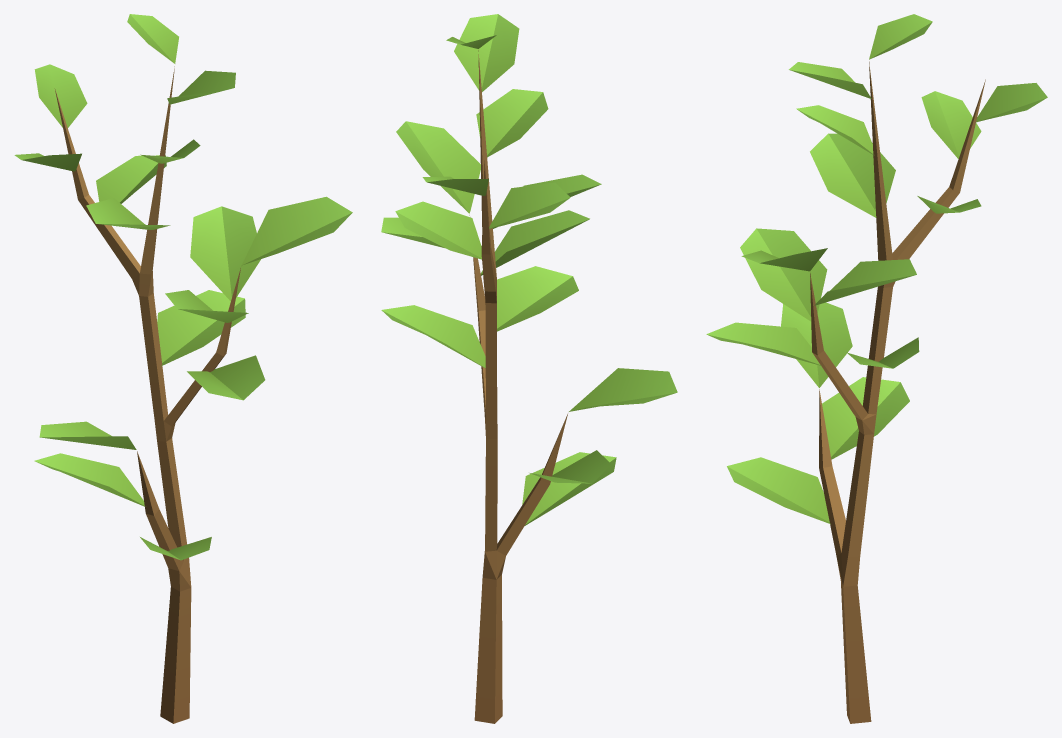
The model's file is Plant_02.fbx.
3 renders of one model, left to right at view 1: azimuth 30°, elevation 25°; view 2: azimuth 150°, elevation 25°; view 3: azimuth 270°, elevation 25°, orthographic. The views are drawn at different scales.
Visible parts, largest first — view 1: Plant_02_LOD0; view 2: Plant_02_LOD0; view 3: Plant_02_LOD0.
Part boxes in pixels (x1=…): Plant_02_LOD0: x1=14, y1=14, x2=352, y2=723; Plant_02_LOD0: x1=381, y1=14, x2=677, y2=723; Plant_02_LOD0: x1=706, y1=14, x2=1047, y2=723.
Size of what is drawn, in the model's own units: 0.1032 by 0.2333 by 0.1041.
